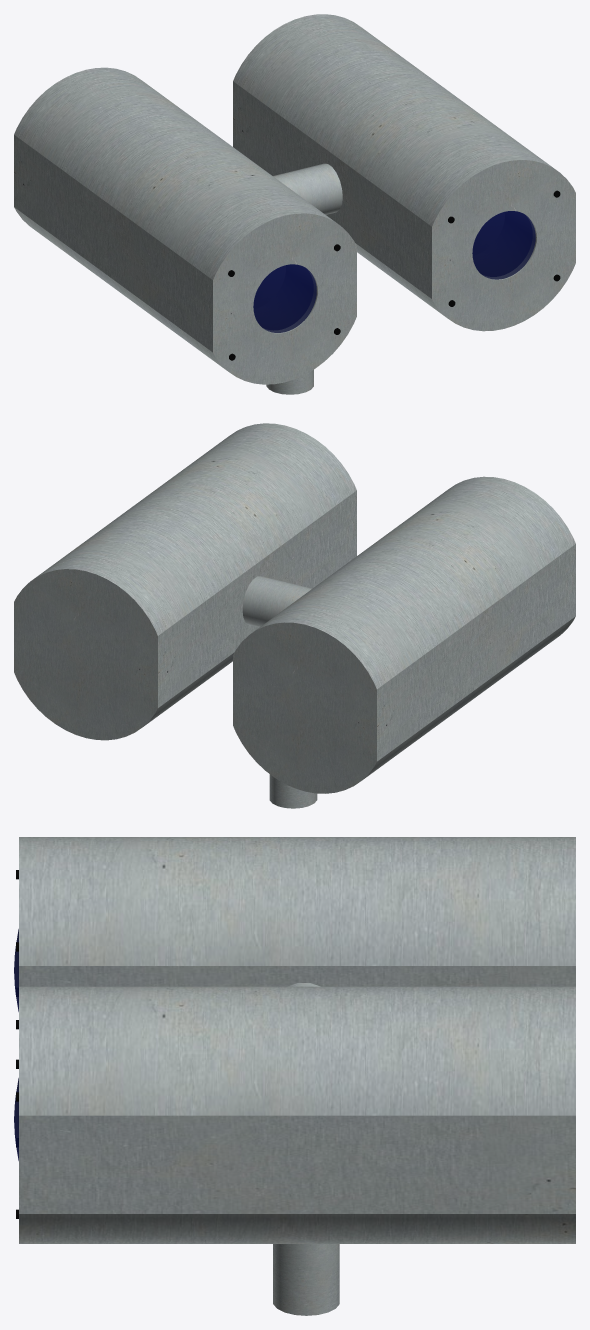
Rendered from twoeyes.obj.
3 renders of one model, top to bottom at view 1: azimuth 30°, elevation 25°; view 2: azimuth 150°, elevation 25°; view 3: azimuth 270°, elevation 25°, orthographic. The views are drawn at different scales.
Parts seen in each view (by area): view 1: Cylinder001, Cylinder006, Sphere001, Sphere002, Cylinder011, Cylinder012; view 2: Cylinder001, Cylinder006, Cylinder011, Cylinder012; view 3: Cylinder006, Cylinder001, Cylinder012.
Boxes of the visible parts, bbox=[...] form: Cylinder001: bbox=[14, 67, 356, 384]; Cylinder006: bbox=[233, 14, 575, 331]; Sphere001: bbox=[253, 264, 316, 332]; Sphere002: bbox=[472, 211, 535, 279]; Cylinder011: bbox=[273, 163, 342, 214]; Cylinder012: bbox=[266, 369, 313, 394]; Cylinder001: bbox=[233, 476, 575, 793]; Cylinder006: bbox=[14, 423, 356, 740]; Cylinder011: bbox=[242, 576, 311, 627]; Cylinder012: bbox=[269, 774, 317, 808]; Cylinder006: bbox=[19, 986, 575, 1243]; Cylinder001: bbox=[19, 837, 575, 986]; Cylinder012: bbox=[273, 1244, 339, 1315].
Size of the model in its own units: 136 by 97.27 by 131.
Materials: 3 (1 with a texture image).
